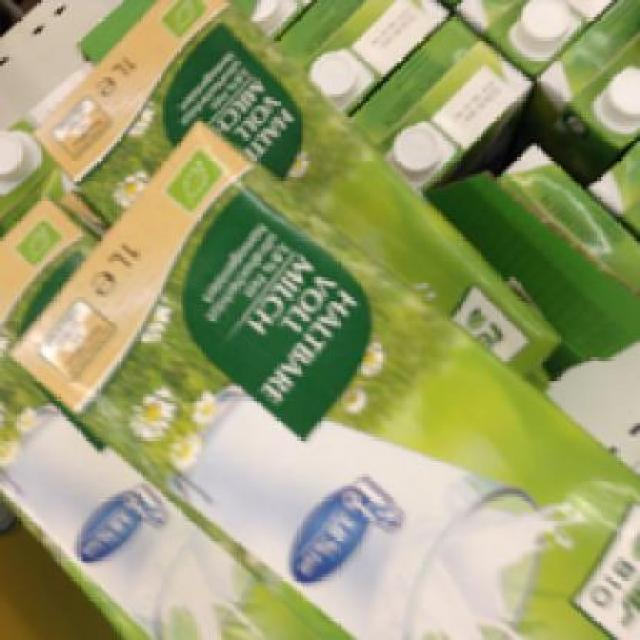Milk: (17, 117, 637, 634)
